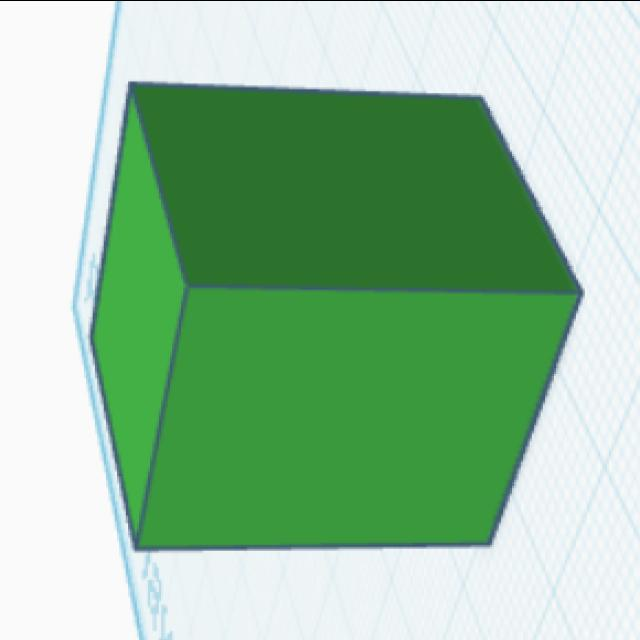cube: (86, 77, 588, 554)
